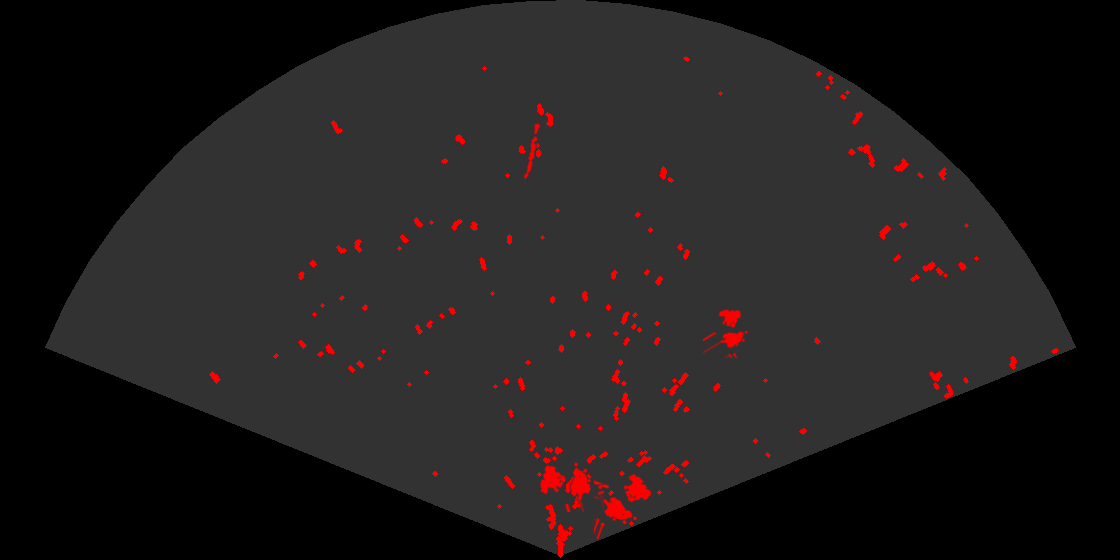cage: (594, 472, 653, 539), (538, 461, 604, 512), (703, 308, 750, 358)
chain: (522, 122, 542, 181)
